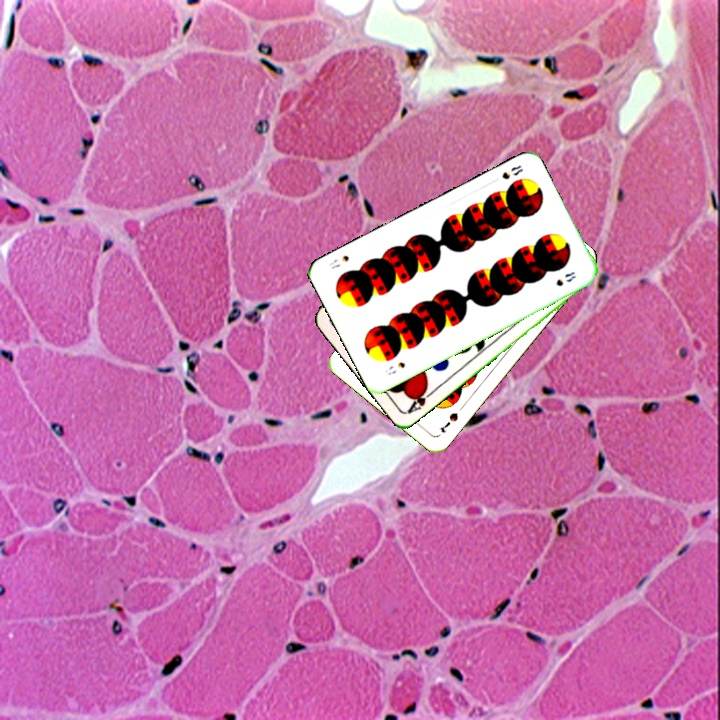HA: (403, 382, 438, 416)
S7: (435, 408, 461, 436)
S8: (498, 161, 526, 182), (381, 358, 408, 377)
